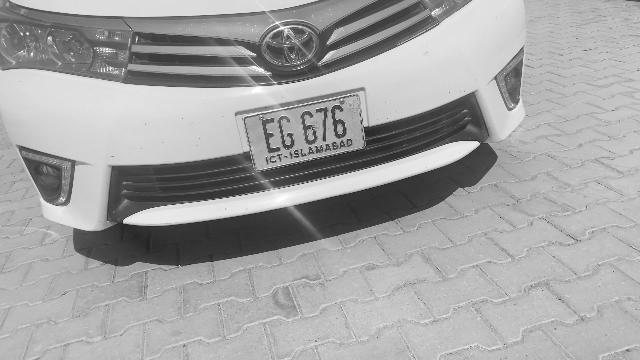Number: (260, 102, 353, 157)
